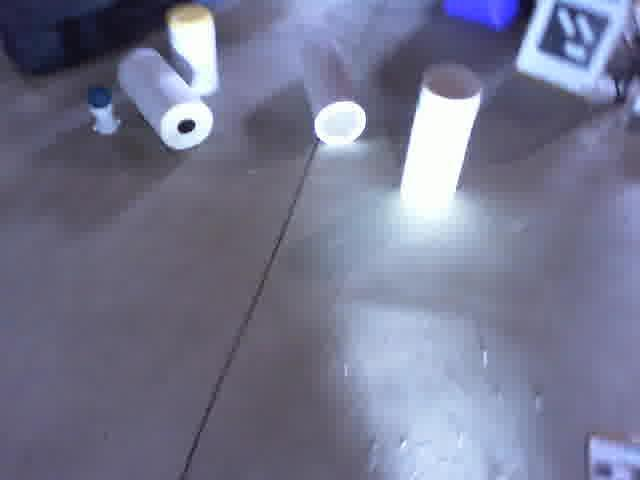coral: (388, 53, 490, 219), (293, 27, 370, 147), (164, 0, 228, 102)
